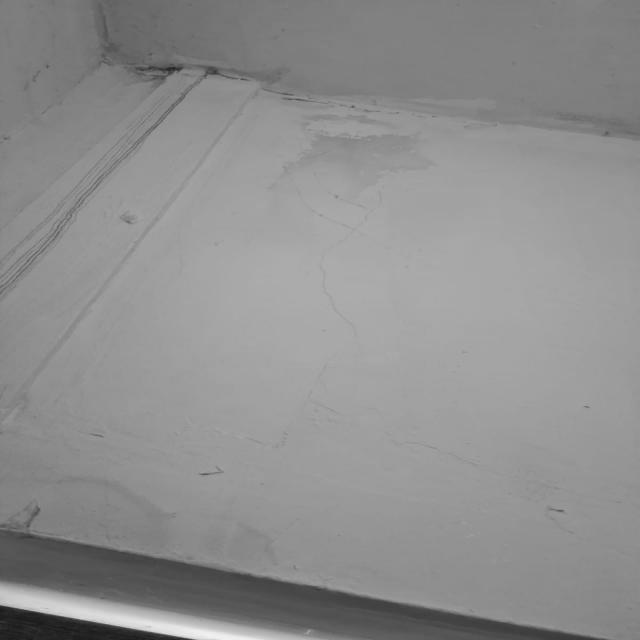stain marks: (0, 98, 191, 469), (0, 469, 303, 574), (121, 0, 331, 97), (270, 102, 437, 208), (0, 0, 122, 97), (473, 100, 640, 144), (530, 498, 586, 556), (567, 384, 603, 426)
